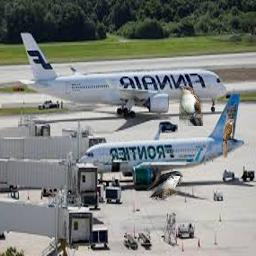Cuckoo: (179, 86, 203, 126), (223, 119, 234, 159)
Swallow: (147, 171, 183, 198)
